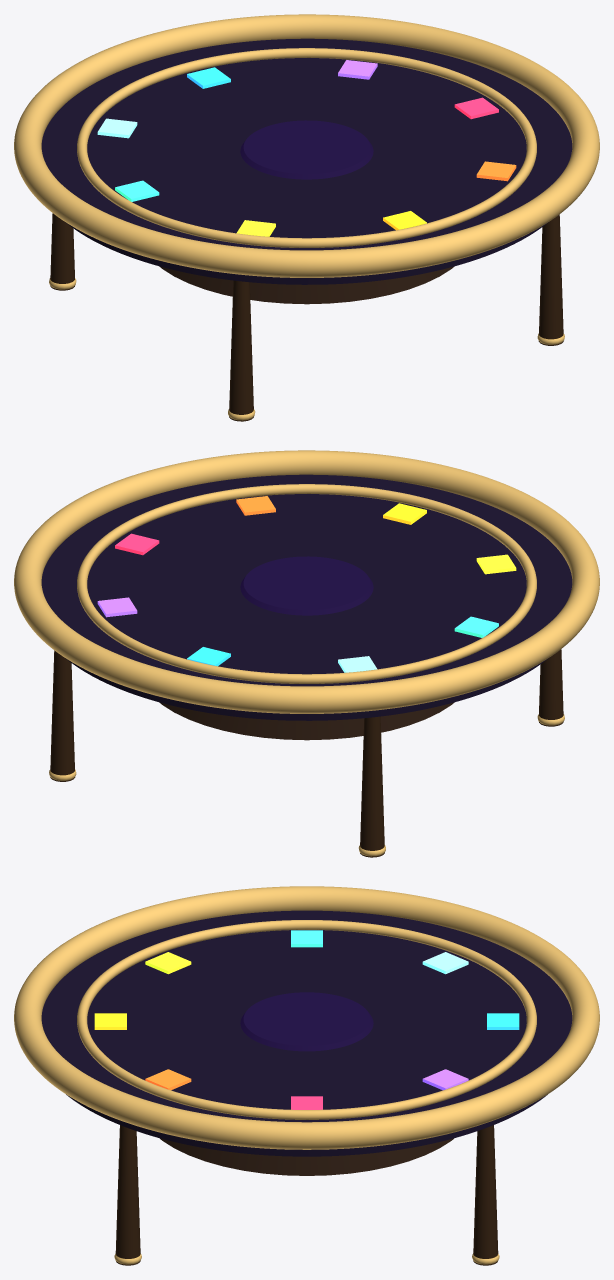
The model's file is huepot-pit.glb.
3 renders of one model, top to bottom at view 1: azimuth 30°, elevation 25°; view 2: azimuth 150°, elevation 25°; view 3: azimuth 270°, elevation 25°, orthographic.
Parts seen in each view (by area): view 1: felt, goldRim, HuepotPit; view 2: felt, goldRim, HuepotPit; view 3: felt, goldRim, HuepotPit.
Part boxes in pixels (left/top/right/bottom): felt: left=41, top=38, right=572, bottom=284; goldRim: left=14, top=14, right=599, bottom=277; HuepotPit: left=49, top=48, right=564, bottom=421; felt: left=41, top=474, right=572, bottom=720; goldRim: left=14, top=450, right=599, bottom=713; HuepotPit: left=49, top=484, right=564, bottom=857; felt: left=41, top=910, right=572, bottom=1156; goldRim: left=14, top=886, right=599, bottom=1149; HuepotPit: left=77, top=920, right=536, bottom=1265.
Size of the model in its own units: 5.08 by 1.75 by 5.08.
